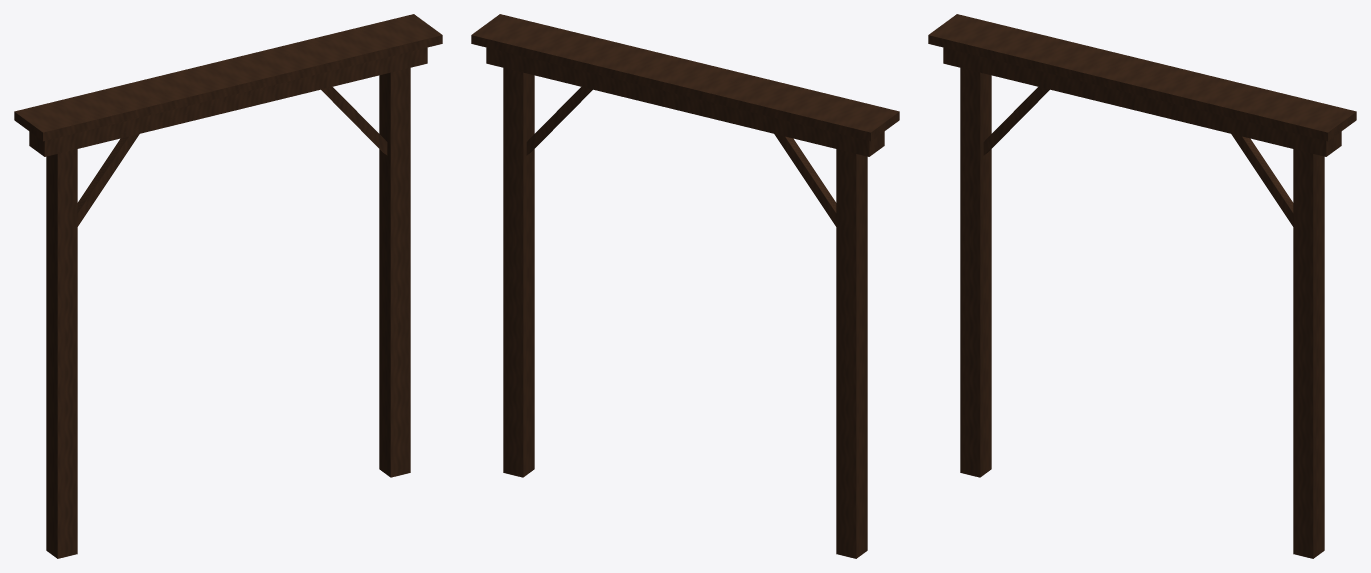
File: SG_Rooftop_Gantry_LOD2.fbx
3 views of the same model, side by side, from view 1: azimuth 30°, elevation 25°; view 2: azimuth 150°, elevation 25°; view 3: azimuth 330°, elevation 25° (orthographic).
Parts seen in each view (by area): view 1: SG_Rooftop_Gantry_Detail2; view 2: SG_Rooftop_Gantry_Detail2; view 3: SG_Rooftop_Gantry_Detail2.
Part boxes in pixels (x1,y1,x2,y2): SG_Rooftop_Gantry_Detail2: [14, 14, 442, 558]; SG_Rooftop_Gantry_Detail2: [471, 14, 899, 558]; SG_Rooftop_Gantry_Detail2: [928, 14, 1356, 558].
Size of the model in its own units: 24 by 25.15 by 3.
